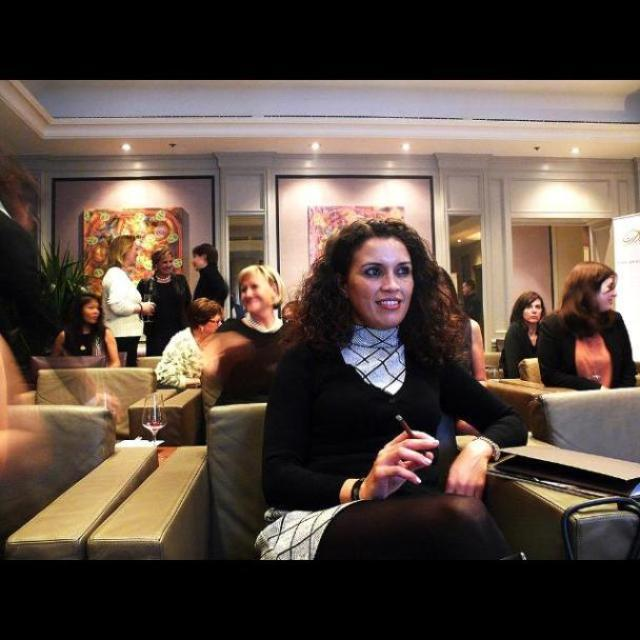rokok: (375, 410, 441, 494)
